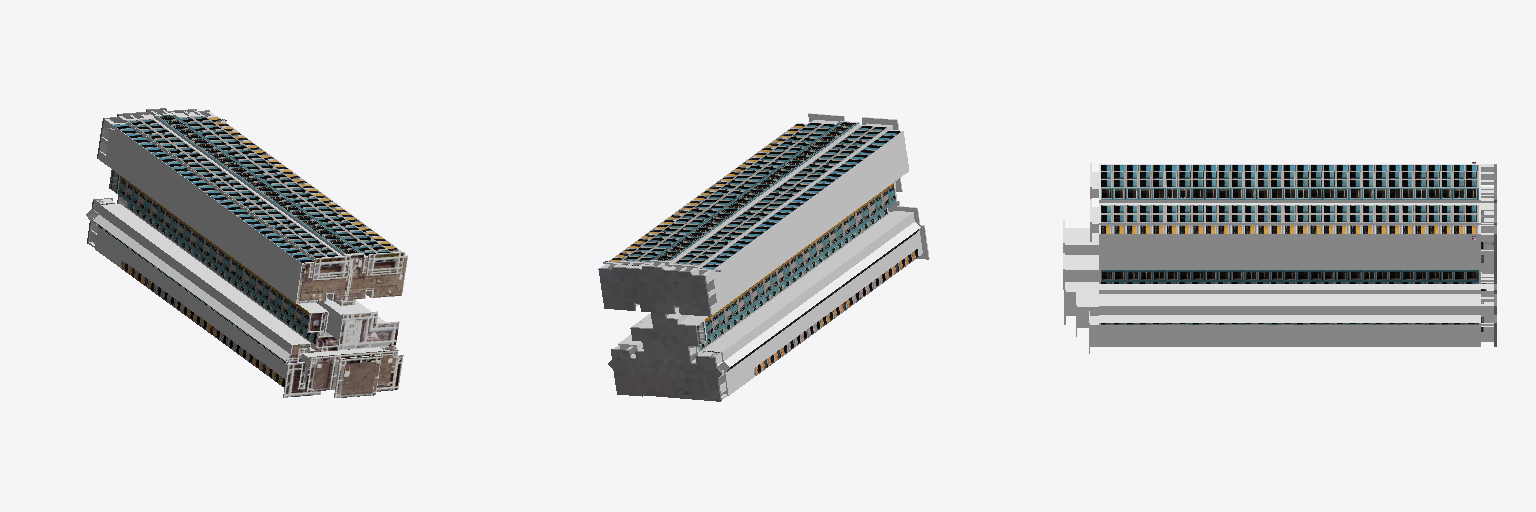
The picture shows the model from 3 angles: view 1: azimuth 30°, elevation 25°; view 2: azimuth 150°, elevation 25°; view 3: azimuth 270°, elevation 25°; orthographic projection.
Parts seen in each view (by area): view 1: polygon.822; view 2: polygon.822; view 3: polygon.822.
Boxes of the visible parts, box(x1,y1,x2,y2) form: polygon.822: box(86, 108, 407, 397); polygon.822: box(598, 113, 929, 401); polygon.822: box(1063, 162, 1496, 353).
Bounding box in the file's own units: 33.71 × 36.3 × 94.38.
1 materials, 1 textured.